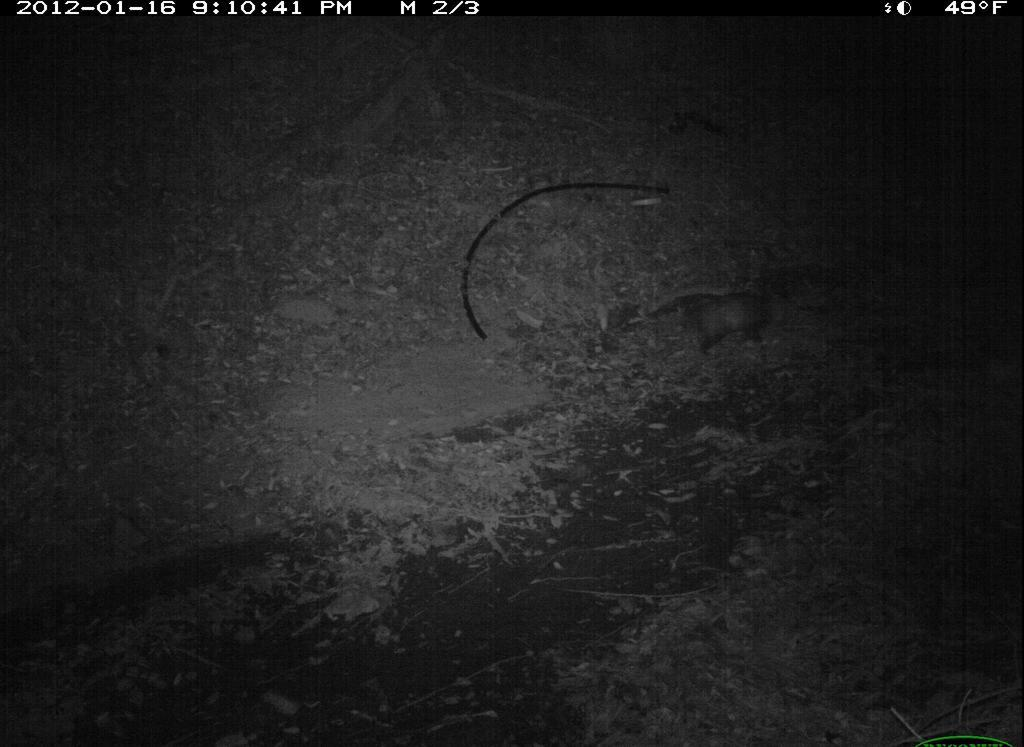opossum: (649, 277, 795, 373)
